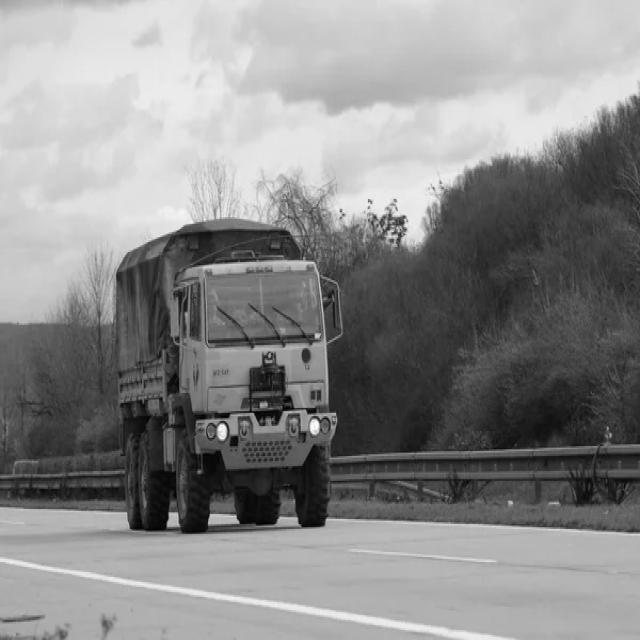Truck: (117, 219, 338, 533)
